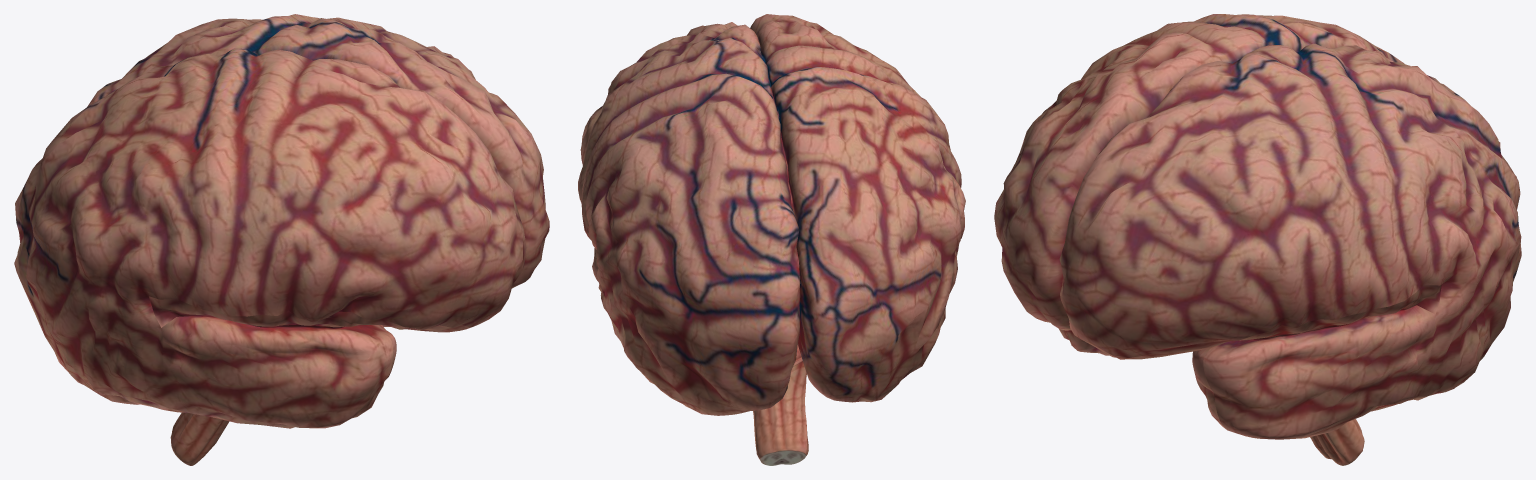
Rendered from brain.glb.
3 renders of one model, left to right at view 1: azimuth 30°, elevation 25°; view 2: azimuth 150°, elevation 25°; view 3: azimuth 270°, elevation 25°, orthographic. The views are drawn at different scales.
Visible parts, largest first — view 1: udambu; view 2: udambu; view 3: udambu.
Boxes of the visible parts, x1=… form: udambu: x1=14, y1=14, x2=549, y2=465; udambu: x1=578, y1=14, x2=965, y2=465; udambu: x1=994, y1=14, x2=1521, y2=465.
Bounding box in the file's own units: 0.5716 × 0.5709 × 0.6.
1 material, 1 textured.
